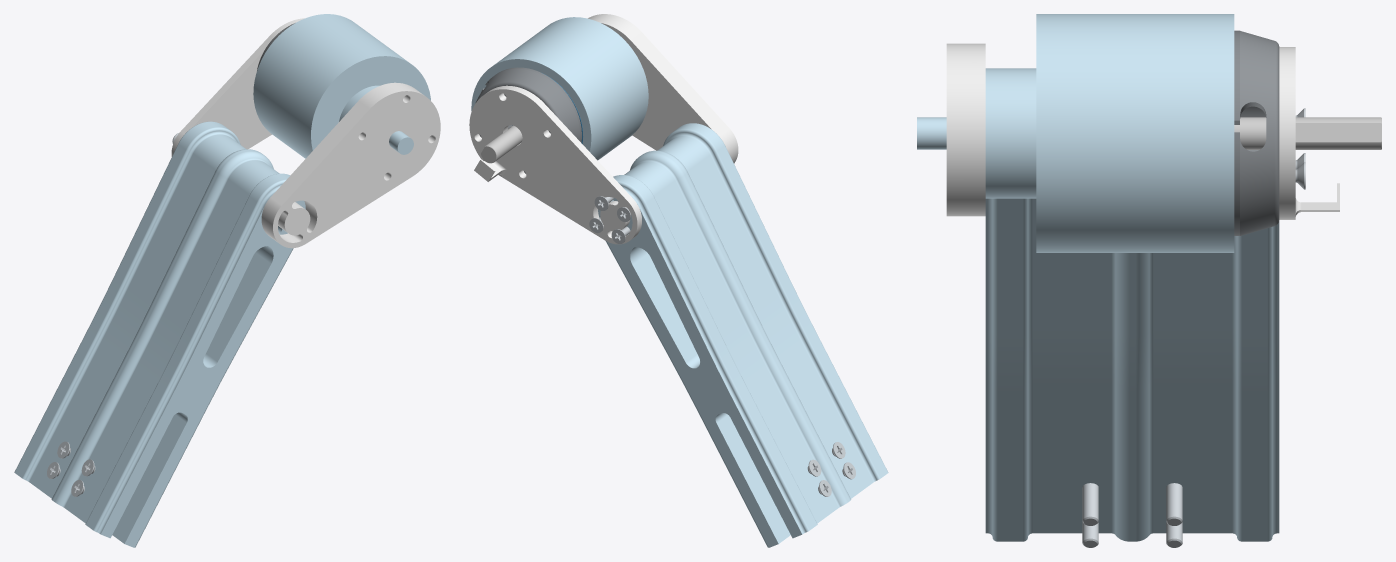
The model's file is enigmatix-v3-bras.glb.
3 views of the same model, side by side, from view 1: azimuth 30°, elevation 25°; view 2: azimuth 150°, elevation 25°; view 3: azimuth 270°, elevation 25° (orthographic). The views are drawn at different scales.
Visible parts, largest first — view 1: Part 1 (×3), Bracket_CNC (×2); view 2: Part 1 (×2), Bracket_CNC (×2), Platine fixe, Cage extÃ©rieure tournante; view 3: Part 1 (×3), Bracket_CNC (×2), Platine fixe, Cage extÃ©rieure tournante, PH Countersunk flat head screw M5x0.8 x 40 (×2).
Part boxes in pixels (x1=…): Part 1 (×3): x1=14, y1=14, x2=430, y2=547; Bracket_CNC (×2): x1=171, y1=18, x2=440, y2=248; Part 1 (×2): x1=471, y1=17, x2=888, y2=547; Bracket_CNC (×2): x1=469, y1=14, x2=738, y2=244; Platine fixe: x1=475, y1=67, x2=581, y2=173; Cage extÃ©rieure tournante: x1=481, y1=73, x2=583, y2=163; Part 1 (×3): x1=917, y1=14, x2=1279, y2=541; Bracket_CNC (×2): x1=946, y1=43, x2=1339, y2=219; Platine fixe: x1=1234, y1=30, x2=1279, y2=235; Cage extÃ©rieure tournante: x1=1234, y1=117, x2=1381, y2=149; PH Countersunk flat head screw M5x0.8 x 40 (×2): x1=1082, y1=483, x2=1182, y2=525.
Size of the model in its own units: 0.213 by 0.245 by 0.1426.
